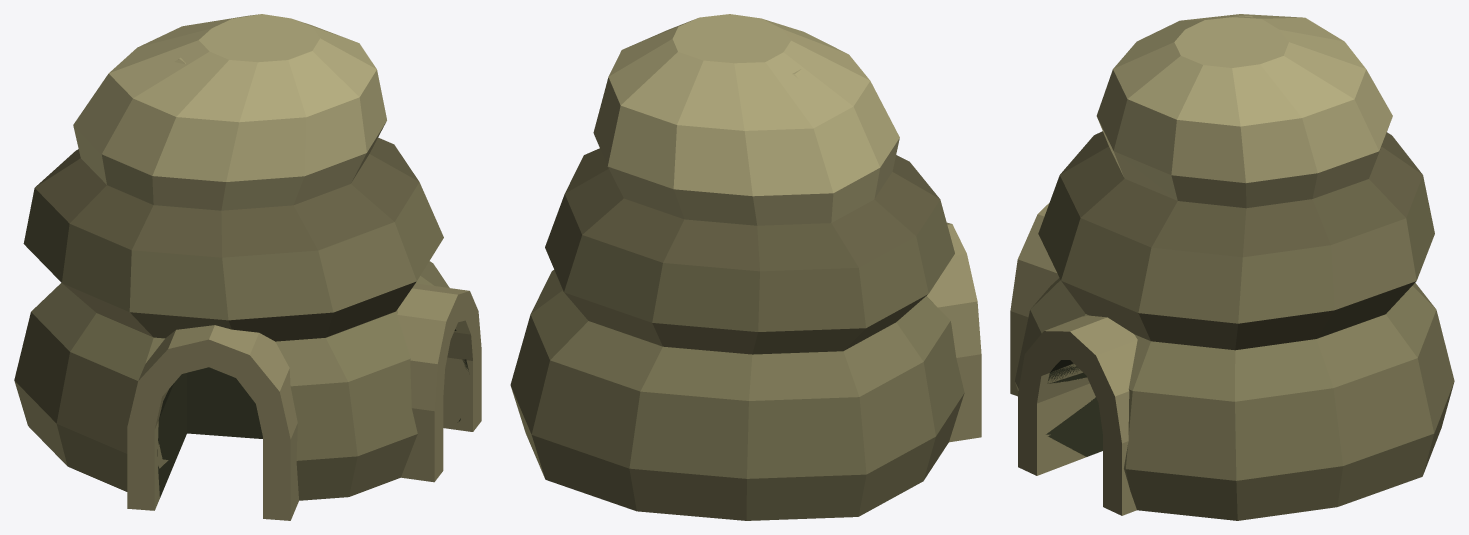
The model's file is hive_c.obj.
3 views of the same model, side by side, from view 1: azimuth 30°, elevation 25°; view 2: azimuth 150°, elevation 25°; view 3: azimuth 270°, elevation 25° (orthographic). The views are drawn at different scales.
Parts seen in each view (by area): view 1: hive_c; view 2: hive_c; view 3: hive_c.
Boxes of the visible parts, bbox=[...] form: hive_c: bbox=[14, 14, 481, 520]; hive_c: bbox=[510, 14, 981, 520]; hive_c: bbox=[1010, 14, 1454, 520].
Size of the model in its own units: 0.8911 by 0.83 by 0.8558.
